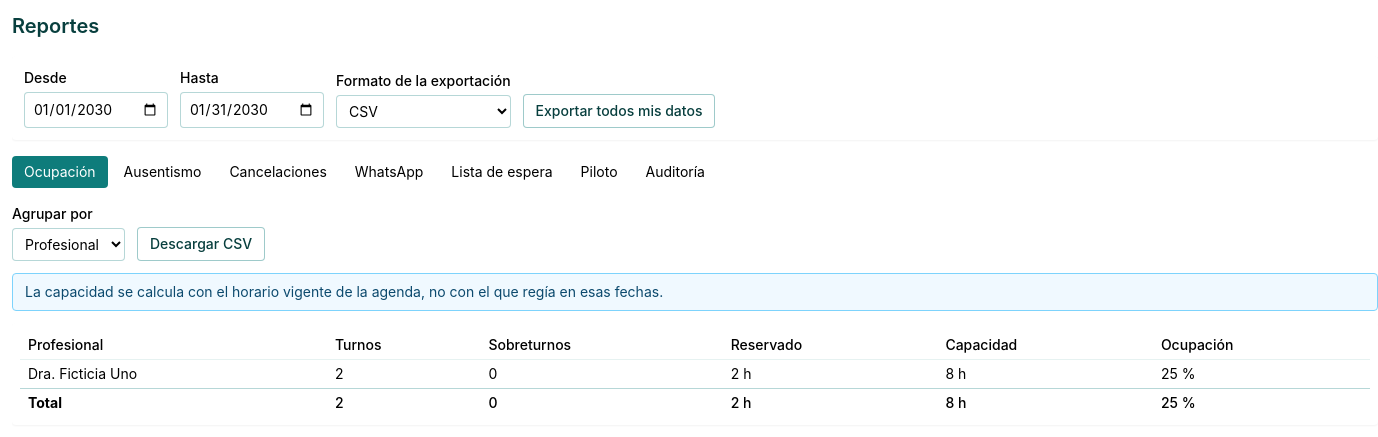
Test: ReportsPage › un fallo de la descarga se informa sin perder la pantalla
Expected: the column heading "Dra. Ficticia Uno" is shown, [20, 360, 327, 388]
Click the button "Exportar todos mis datos".
click(619, 111)  # box [523, 94, 716, 128]
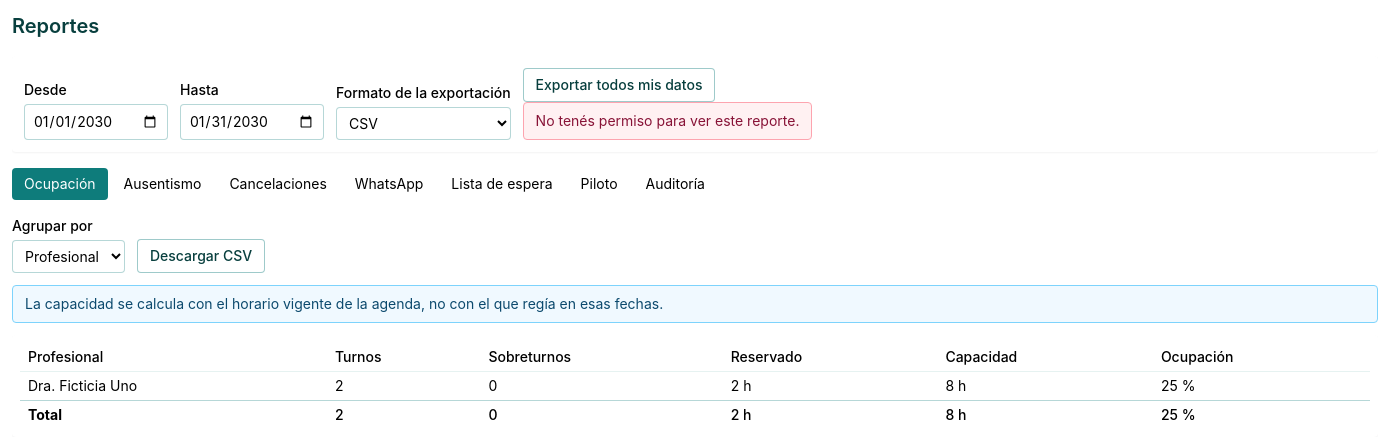
Expected: the tab "Ocupación" is shown, [12, 168, 108, 200]
Expected: the message "No tenés permiso para ver este reporte." is shown, [523, 102, 812, 140]
